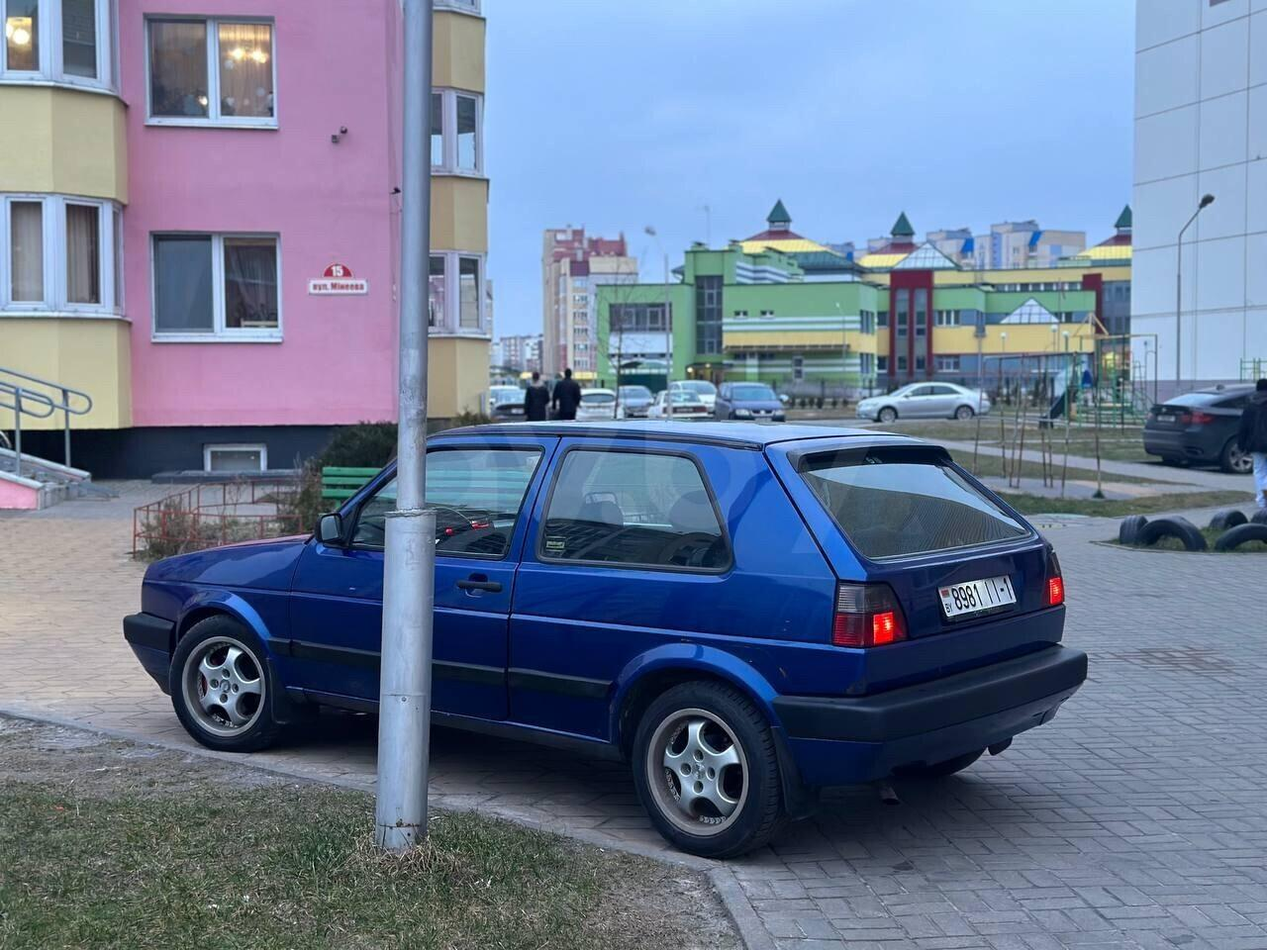Golf_1983-1992: (120, 413, 1090, 850)
